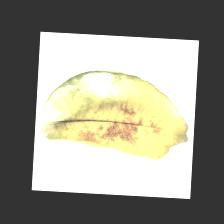black spot: (68, 97, 159, 147)
